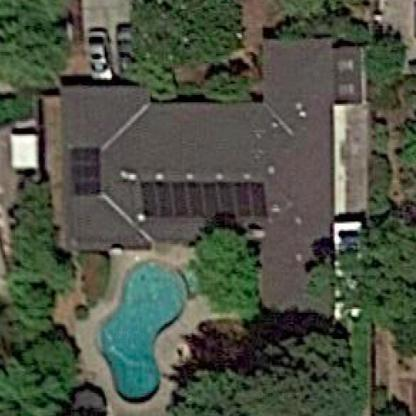car: (80, 20, 114, 86), (114, 20, 146, 80)
solar_panel: (133, 172, 274, 227), (66, 137, 119, 208)
swimming_pool: (90, 249, 192, 411)
